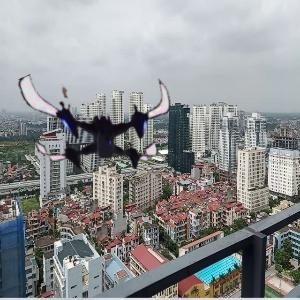drone: (30, 49, 179, 198)
